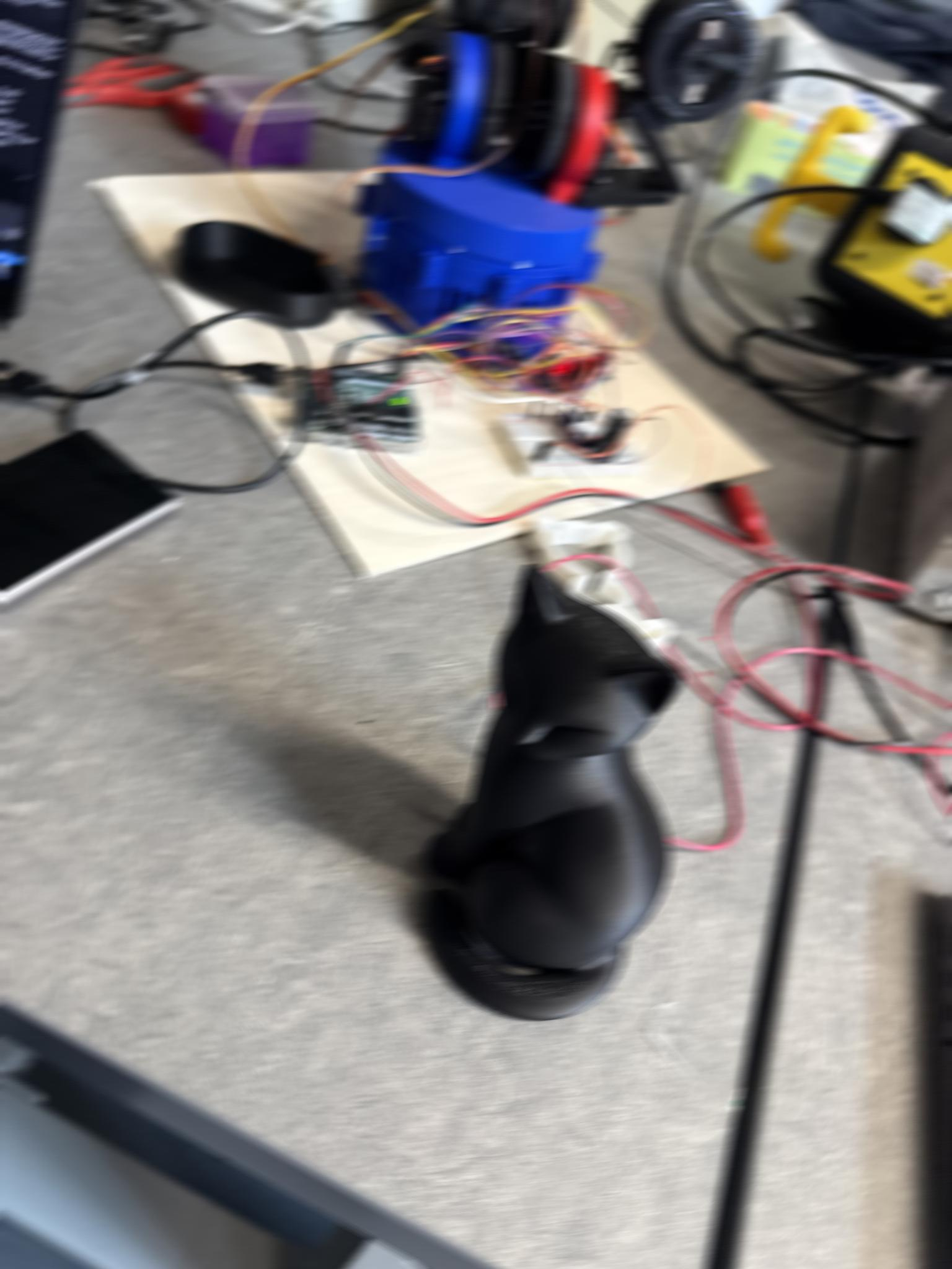cat: (420, 564, 683, 1020)
